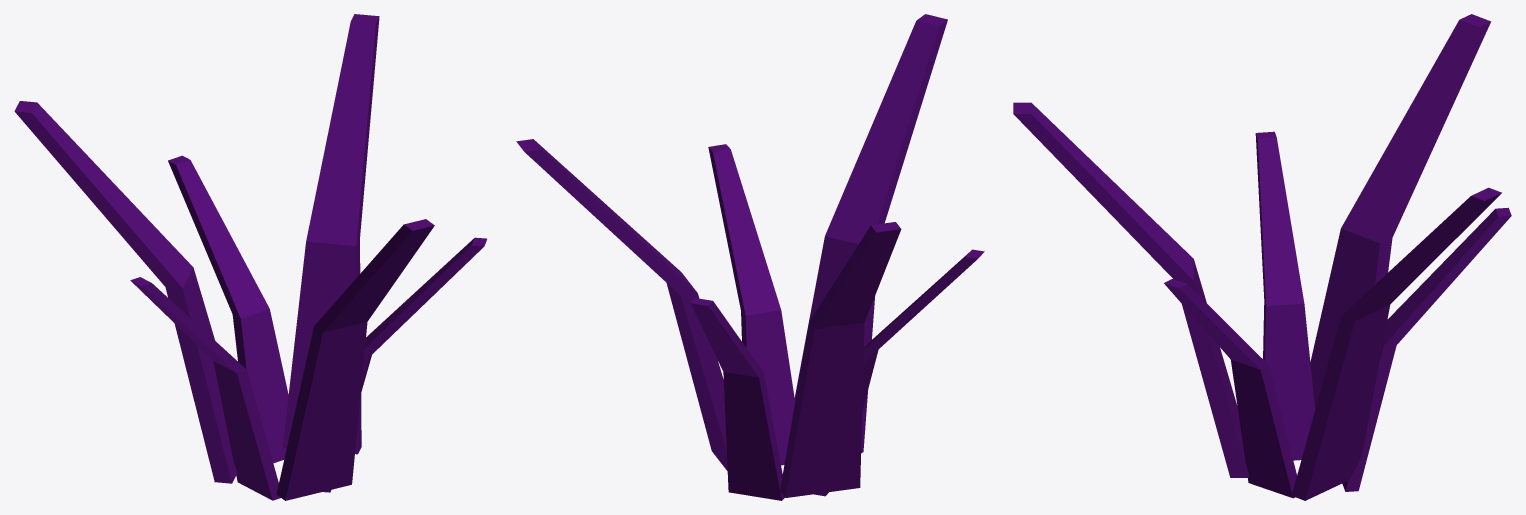
The model's file is BlackGrass3.fbx.
3 views of the same model, side by side, from view 1: azimuth 30°, elevation 25°; view 2: azimuth 150°, elevation 25°; view 3: azimuth 270°, elevation 25° (orthographic). The views are drawn at different scales.
Parts seen in each view (by area): view 1: Cube.021; view 2: Cube.021; view 3: Cube.021.
Part boxes in pixels (box(x1,y1,x2,y2)): Cube.021: box(14, 14, 486, 500); Cube.021: box(516, 14, 984, 500); Cube.021: box(1013, 14, 1511, 500).
Size of the model in its own units: 43.33 by 39.32 by 48.78.
